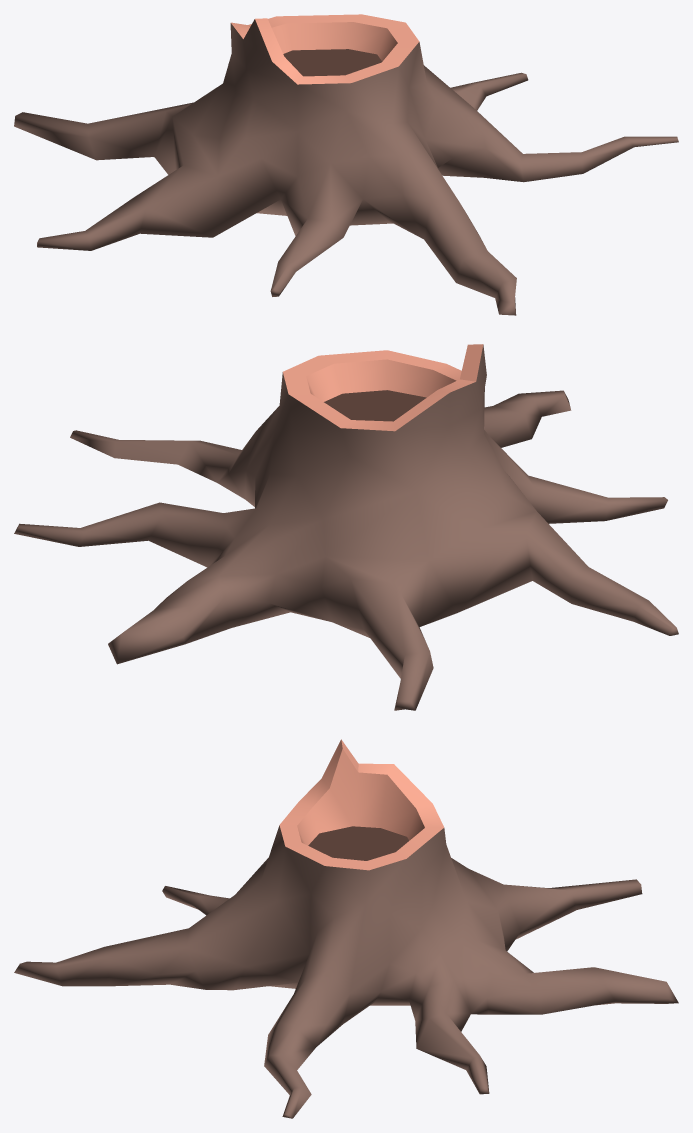
File: deadwood_026.glb
3 views of the same model, one above another, from view 1: azimuth 30°, elevation 25°; view 2: azimuth 150°, elevation 25°; view 3: azimuth 270°, elevation 25° (orthographic). The views are drawn at different scales.
Visible parts, largest first — view 1: deadwood_026; view 2: deadwood_026; view 3: deadwood_026.
Boxes of the visible parts, x1=… form: deadwood_026: x1=14, y1=14, x2=678, y2=315; deadwood_026: x1=14, y1=344, x2=678, y2=710; deadwood_026: x1=14, y1=739, x2=678, y2=1118.
Size of the model in its own units: 3.46 by 1.18 by 3.47.
Materials: 1 (1 with a texture image).
